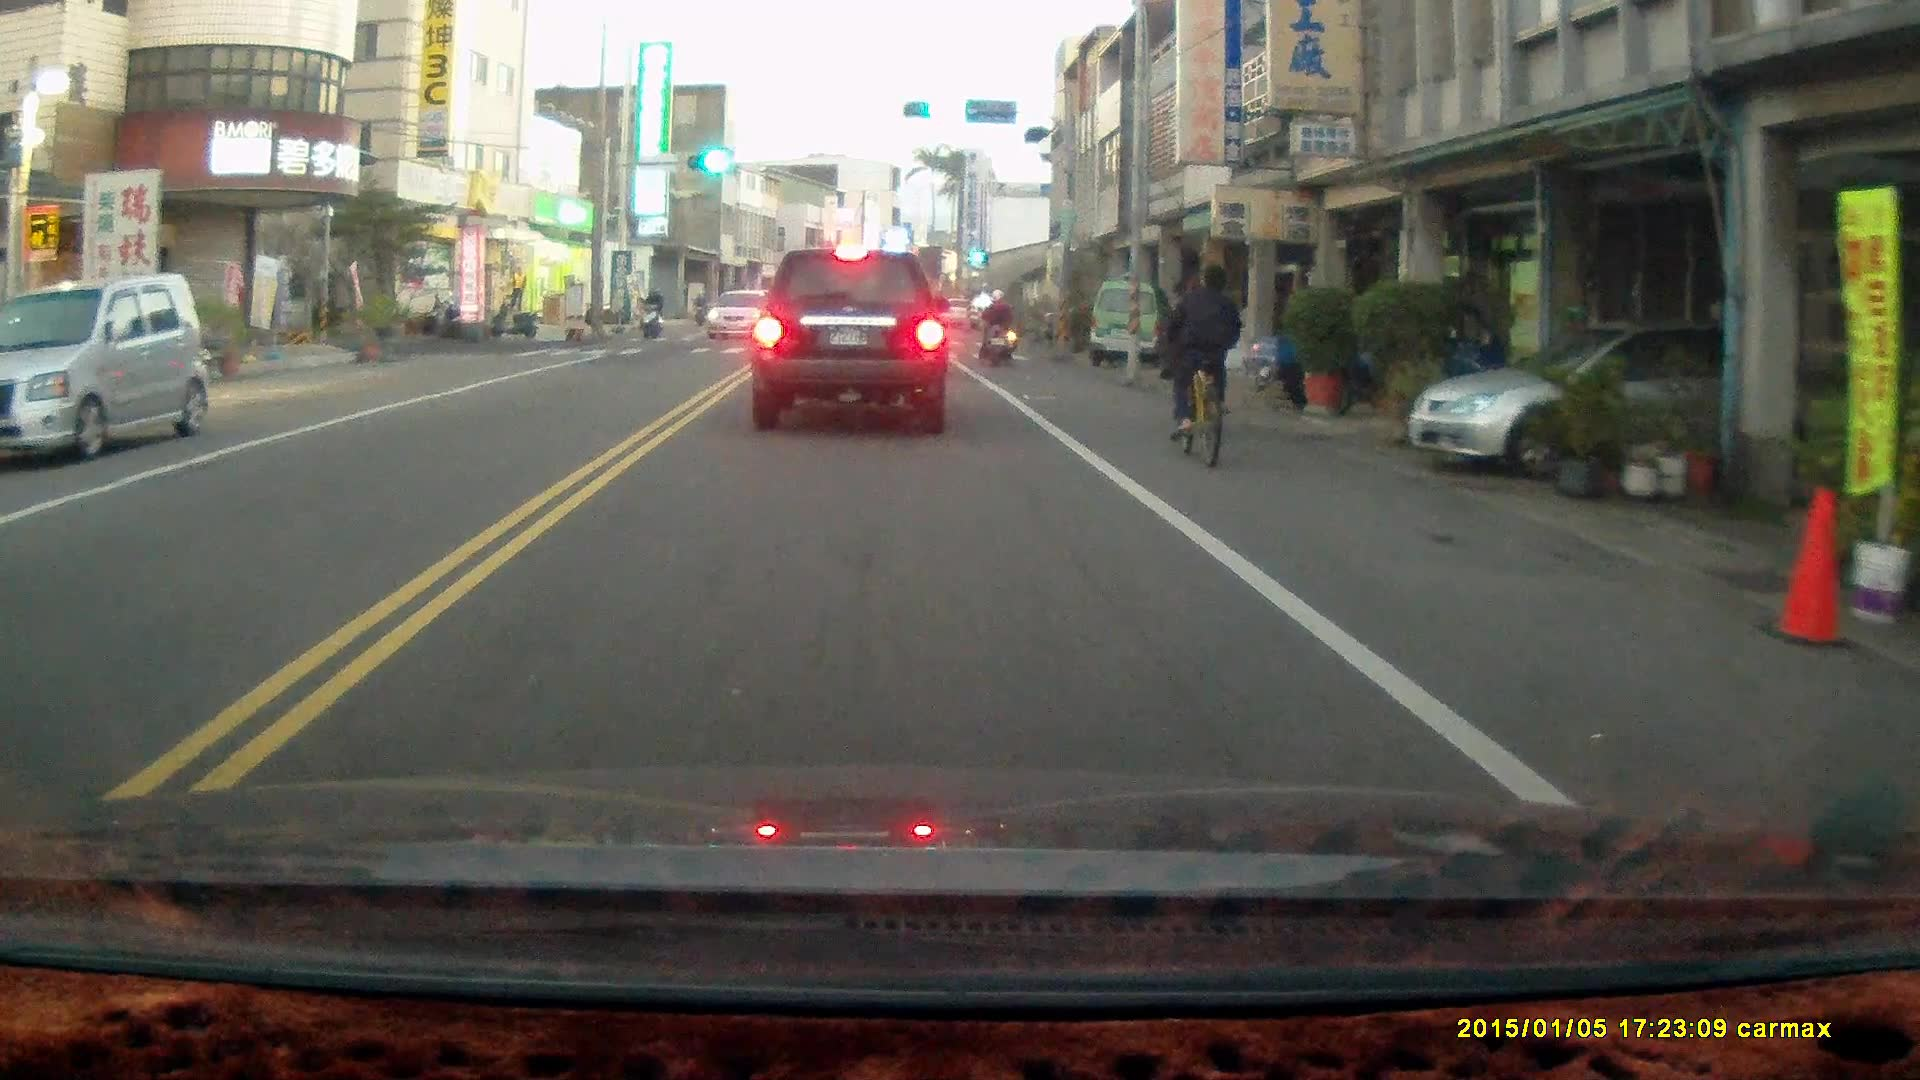pedestrian: (506, 264, 526, 314)
rider: (1173, 263, 1245, 467), (976, 287, 1019, 366), (636, 285, 665, 340)
vehicle: (1406, 323, 1833, 484), (3, 268, 214, 467), (747, 247, 953, 439), (1092, 282, 1177, 365)
